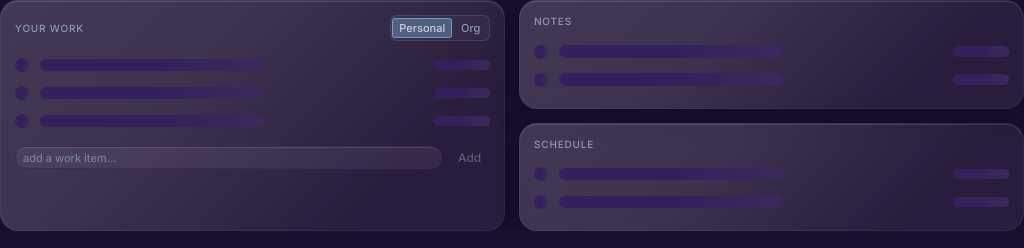
TasksTab — work items (personal/org scope) › a failed create keeps the typed title and surfaces the error inline
Type "will fail" into the field with test id "tasks-workitem-add-input" at (229, 158), box [15, 146, 442, 169]
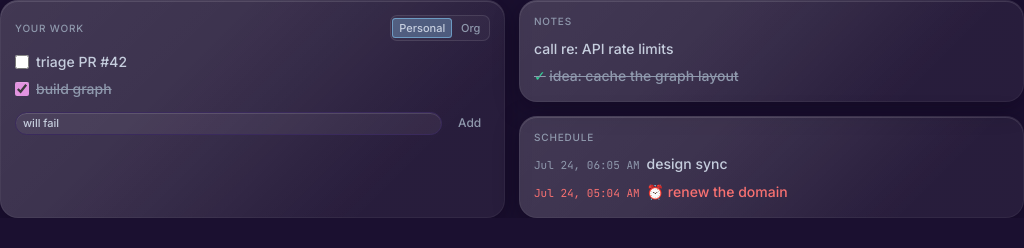
Click the button with test id "tasks-workitem-add" at (470, 123), box [449, 111, 490, 135]
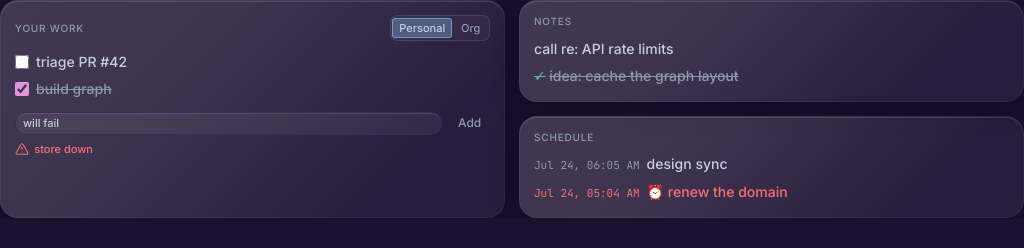
Result: the element with test id "tasks-workitem-error" is shown at [15, 142, 93, 156]
Result: the element with test id "tasks-workitem-error" reads "store down" at [34, 142, 93, 156]
